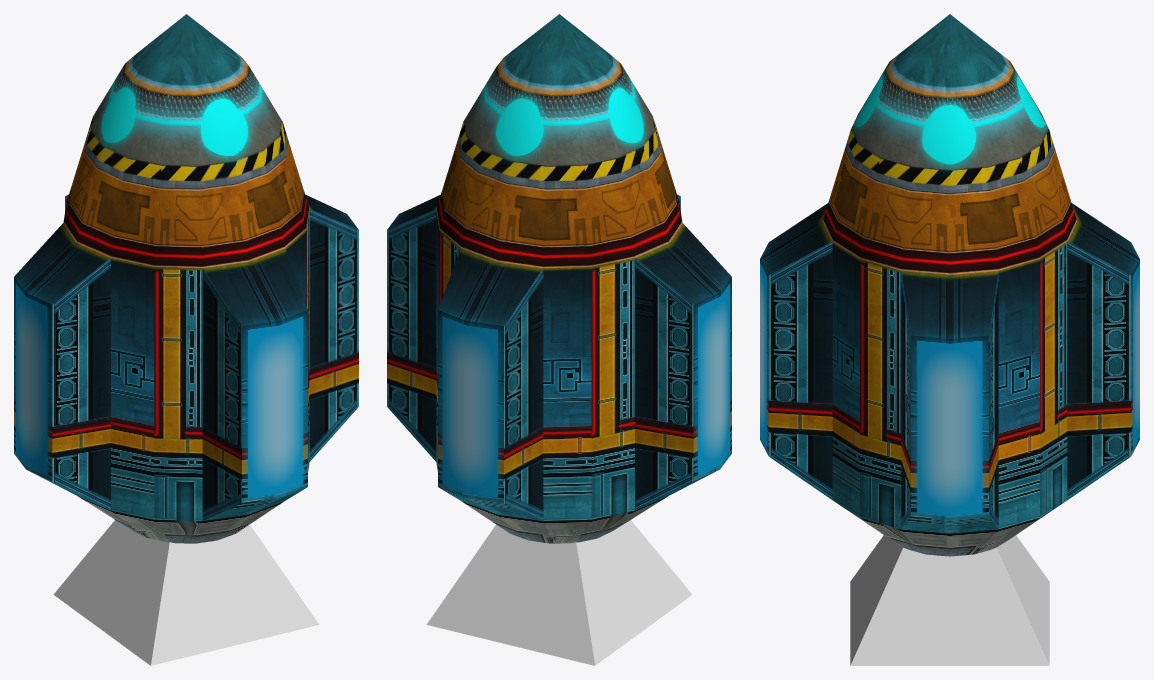
Rendered from apammo00.FBX.
3 renders of one model, left to right at view 1: azimuth 30°, elevation 25°; view 2: azimuth 150°, elevation 25°; view 3: azimuth 270°, elevation 25°, orthographic. The views are drawn at different scales.
Visible parts, largest first — view 1: ammo, dummy__h; view 2: ammo, dummy__h; view 3: ammo, dummy__h.
Boxes of the visible parts, <box> form: ammo: <box>14,14,358,543</box>; dummy__h: <box>53,520,319,665</box>; ammo: <box>387,14,731,543</box>; dummy__h: <box>426,520,692,665</box>; ammo: <box>760,14,1139,556</box>; dummy__h: <box>850,535,1049,665</box>.
Size of the model in its own units: 1.9 by 1.9 by 3.38.
